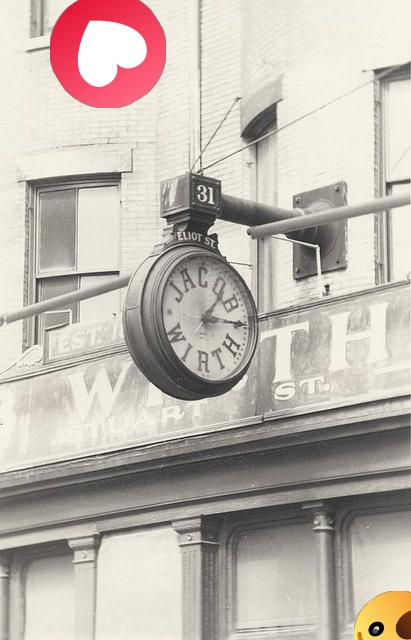love: (50, 0, 166, 108)
wow: (354, 591, 411, 640)
